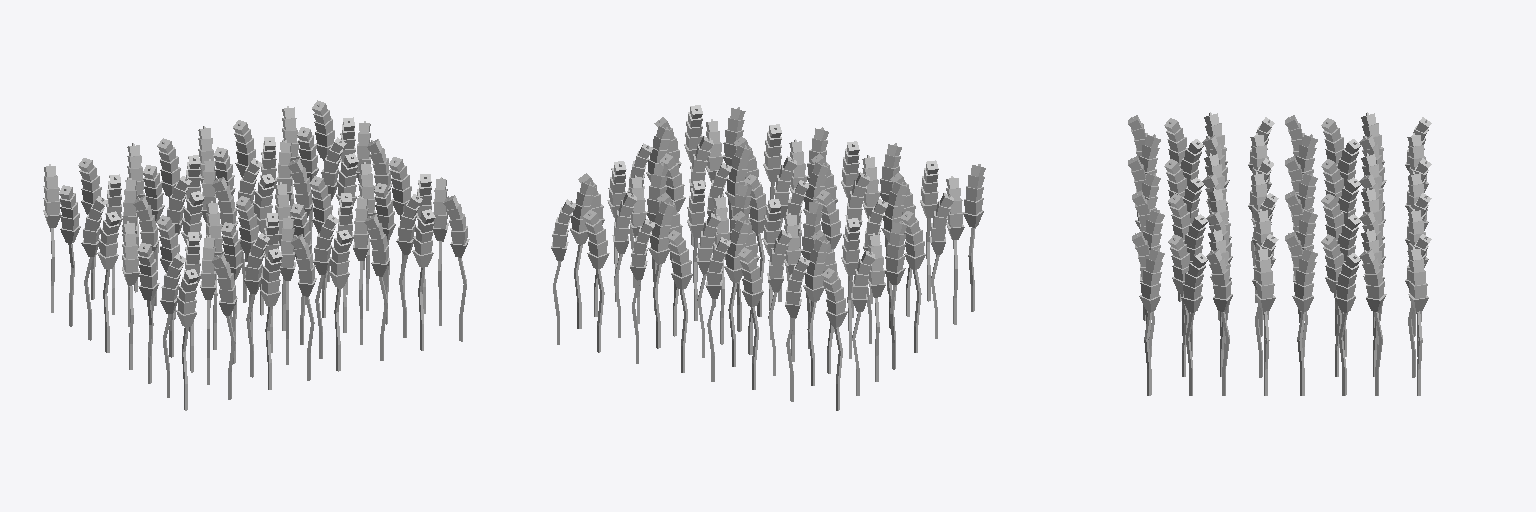
The model's file is wheetGroup.obj.
The picture shows the model from 3 angles: view 1: azimuth 30°, elevation 25°; view 2: azimuth 150°, elevation 25°; view 3: azimuth 270°, elevation 25°; orthographic projection.
Visible parts, largest first — view 1: Cube_Cube.015; view 2: Cube_Cube.015; view 3: Cube_Cube.015.
Boxes of the visible parts, x1=… form: Cube_Cube.015: x1=43, y1=100, x2=469, y2=410; Cube_Cube.015: x1=551, y1=105, x2=985, y2=410; Cube_Cube.015: x1=1128, y1=112, x2=1431, y2=395.
Bounding box in the file's own units: 3.07 × 1.38 × 2.65.